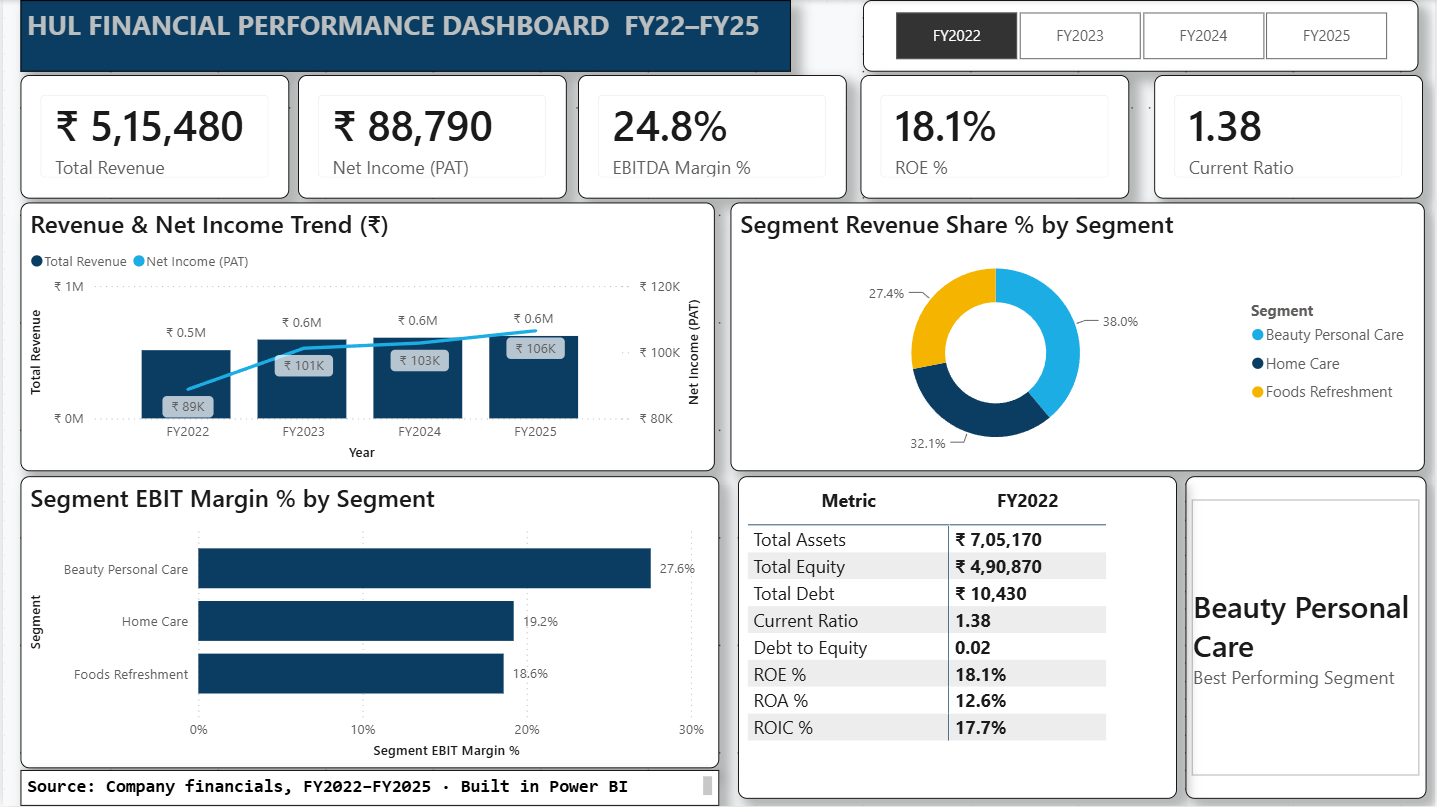

The page's visual inventory and layout, read from the dashboard file:
{"tool":"powerbi","page":{"name":"Overview","canvas":[1280,720],"ordinal":0},"visuals":[{"type":"textbox","box":[16,0,688,64],"z":0},{"type":"slicer","fields":{"Values":["DimYear.Year"]},"box":[768,0,496,64],"z":1000},{"type":"cardVisual","fields":{"Data":[" Measures.Total Revenue"]},"box":[16,67,240,110],"z":2000},{"type":"cardVisual","fields":{"Data":[" Measures.Net Income (PAT)"]},"box":[263,67,240,110],"z":3000},{"type":"cardVisual","fields":{"Data":[" Measures.EBITDA Margin %"]},"box":[513,67,240,110],"z":4000},{"type":"cardVisual","fields":{"Data":[" Measures.ROE %"]},"box":[766,67,240,110],"z":5000},{"type":"cardVisual","fields":{"Data":[" Measures.Current Ratio"]},"box":[1028,67,240,110],"z":6000},{"type":"lineClusteredColumnComboChart","title":"Revenue & Net Income Trend (₹)","fields":{"Category":["DimYear.Year"],"Y":[" Measures.Total Revenue"],"Y2":[" Measures.Net Income (PAT)"]},"box":[16,181,620,240],"z":7000},{"type":"donutChart","fields":{"Category":["Segment.Segment"],"Y":[" Measures.Segment Revenue Share %"]},"box":[650,181,620,240],"z":8000},{"type":"clusteredBarChart","fields":{"Category":["Segment.Segment"],"Y":[" Measures.Segment EBIT Margin %"]},"box":[16,425,624,261],"z":9000},{"type":"cardVisual","title":"Best Performing Segment","fields":{"Data":[" Measures.Best Performing Segment"]},"box":[1056,425,215,288],"z":11000},{"type":"textbox","box":[16,688,624,32],"z":12000},{"type":"pivotTable","fields":{"Rows":["Metric Selector.Metric"],"Columns":["DimYear.Year"],"Values":[" Measures.BS Snapshot Value"]},"box":[656,425,392,288],"z":12001}]}

Visuals, with their boxes in screenshot pixels (x1, y1, x2, y2), scaled from the page's 1280x720 canvas onto the 1437x807 screenshot:
textbox: Rect(18, 0, 790, 72)
slicer - DimYear.Year: Rect(862, 0, 1419, 72)
cardVisual -  Measures.Total Revenue: Rect(18, 75, 287, 198)
cardVisual -  Measures.Net Income (PAT): Rect(295, 75, 565, 198)
cardVisual -  Measures.EBITDA Margin %: Rect(576, 75, 845, 198)
cardVisual -  Measures.ROE %: Rect(860, 75, 1129, 198)
cardVisual -  Measures.Current Ratio: Rect(1154, 75, 1424, 198)
"Revenue & Net Income Trend (₹)" lineClusteredColumnComboChart: Rect(18, 203, 714, 472)
donutChart - Segment.Segment x  Measures.Segment Revenue Share %: Rect(730, 203, 1426, 472)
clusteredBarChart - Segment.Segment x  Measures.Segment EBIT Margin %: Rect(18, 476, 718, 769)
"Best Performing Segment" cardVisual: Rect(1186, 476, 1427, 799)
textbox: Rect(18, 771, 718, 806)
pivotTable - Metric Selector.Metric x DimYear.Year: Rect(736, 476, 1177, 799)
